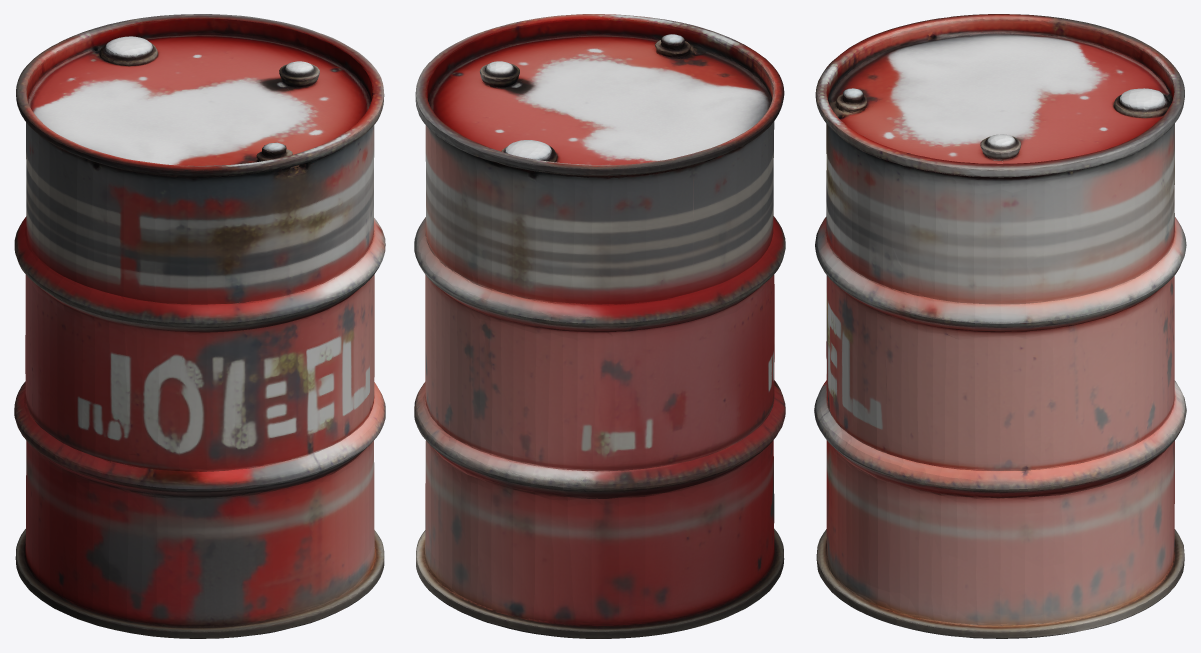
Rendered from bidon.glb.
3 renders of one model, left to right at view 1: azimuth 30°, elevation 25°; view 2: azimuth 150°, elevation 25°; view 3: azimuth 270°, elevation 25°, orthographic.
Visible parts, largest first — view 1: world; view 2: world; view 3: world.
Part boxes in pixels (x1,y1,x2,y2): world: (14, 14, 385, 638); world: (414, 14, 785, 638); world: (814, 14, 1186, 638).
Size of the model in its own units: 0.7025 by 0.9839 by 0.7027.
Materials: 1 (1 with a texture image).
